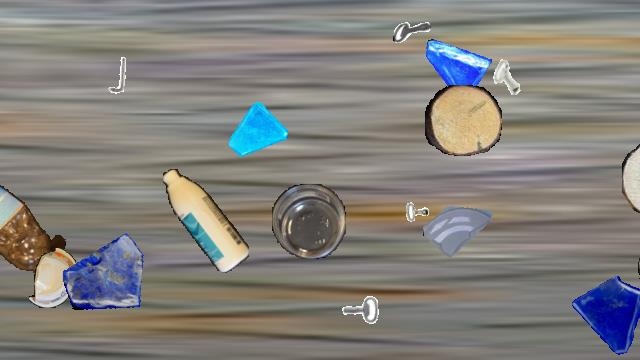glass: (63, 227, 149, 313), (568, 275, 640, 359), (423, 189, 495, 261), (422, 36, 492, 106), (229, 102, 287, 160)
metal: (482, 52, 534, 104), (331, 294, 381, 344), (390, 200, 438, 248), (96, 55, 136, 95), (393, 12, 431, 50)
plastic: (163, 169, 249, 273), (0, 174, 68, 272), (272, 184, 346, 258), (29, 248, 79, 308)
wood: (425, 85, 501, 155), (622, 141, 640, 215), (638, 246, 640, 296)
